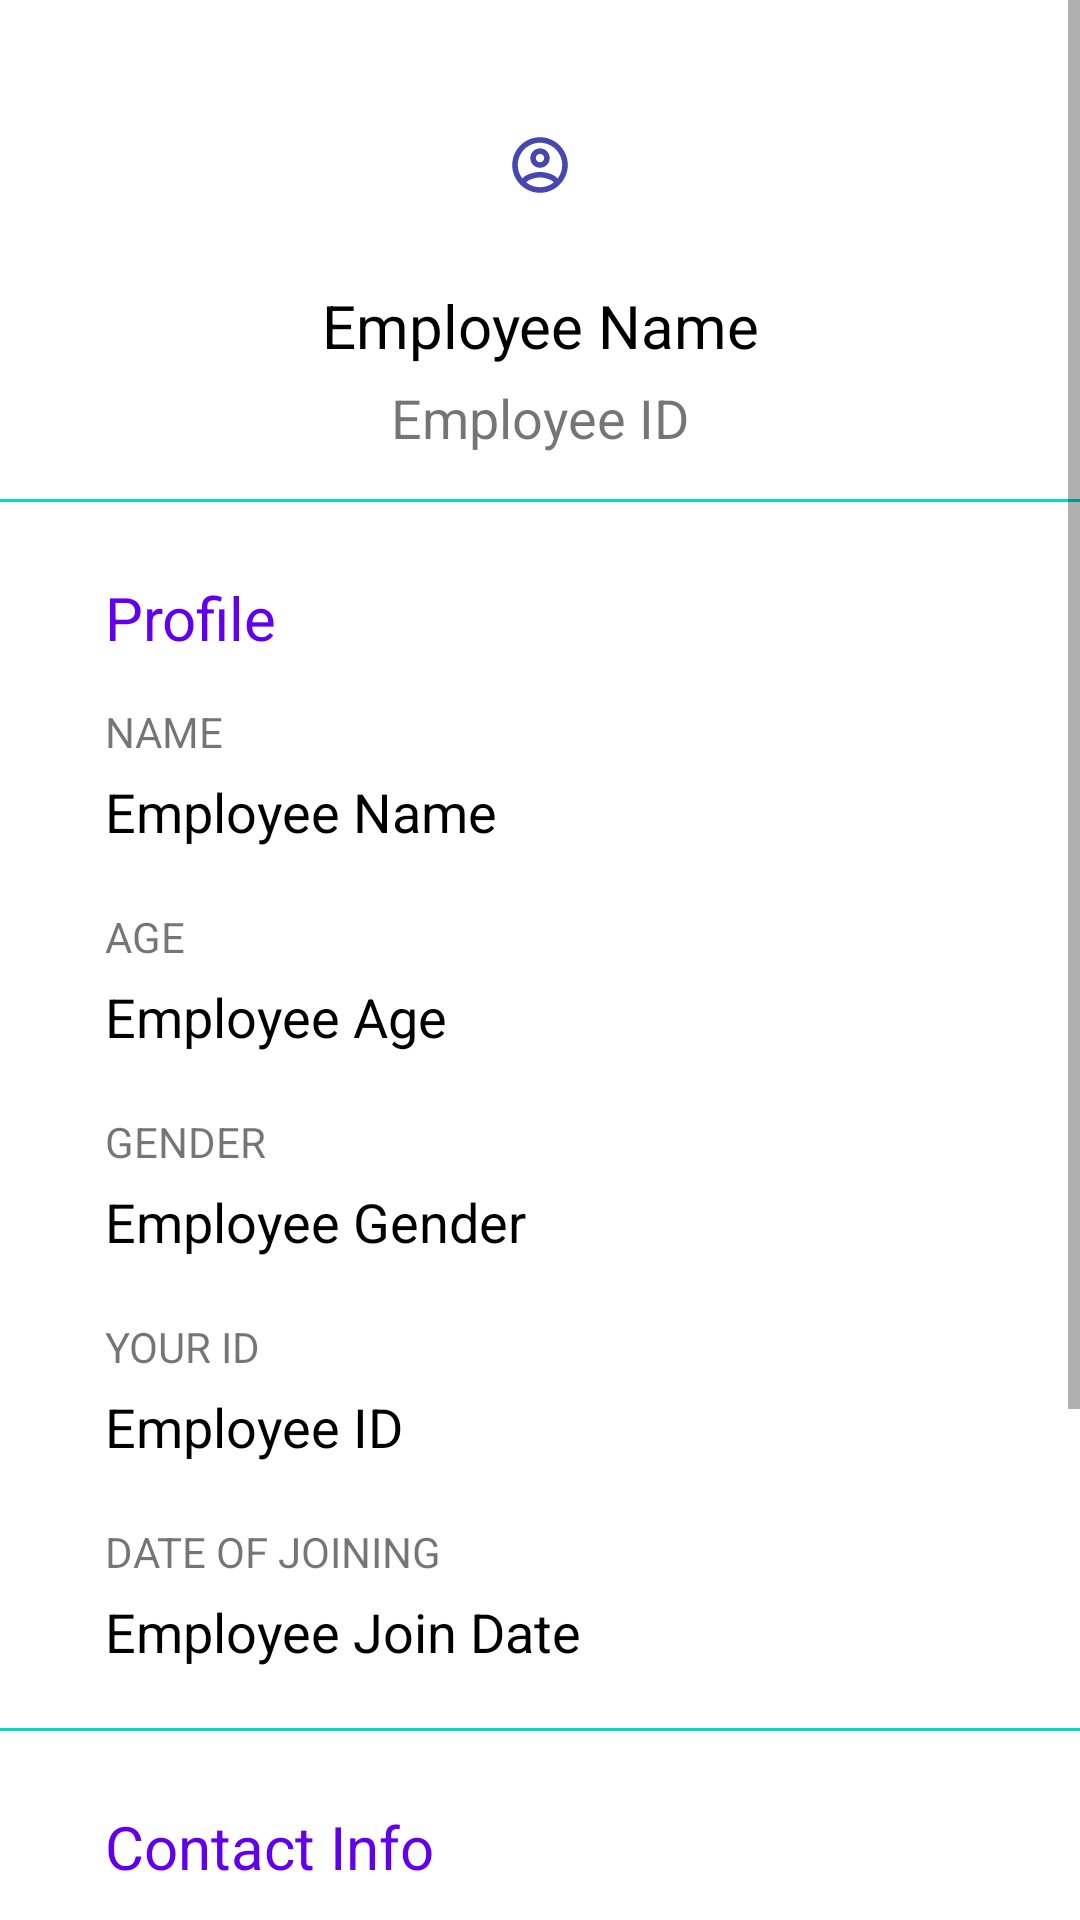

Icon click points for this 1080*1920 phone screenshot, format point (x, y):
profile: point (540, 165)
